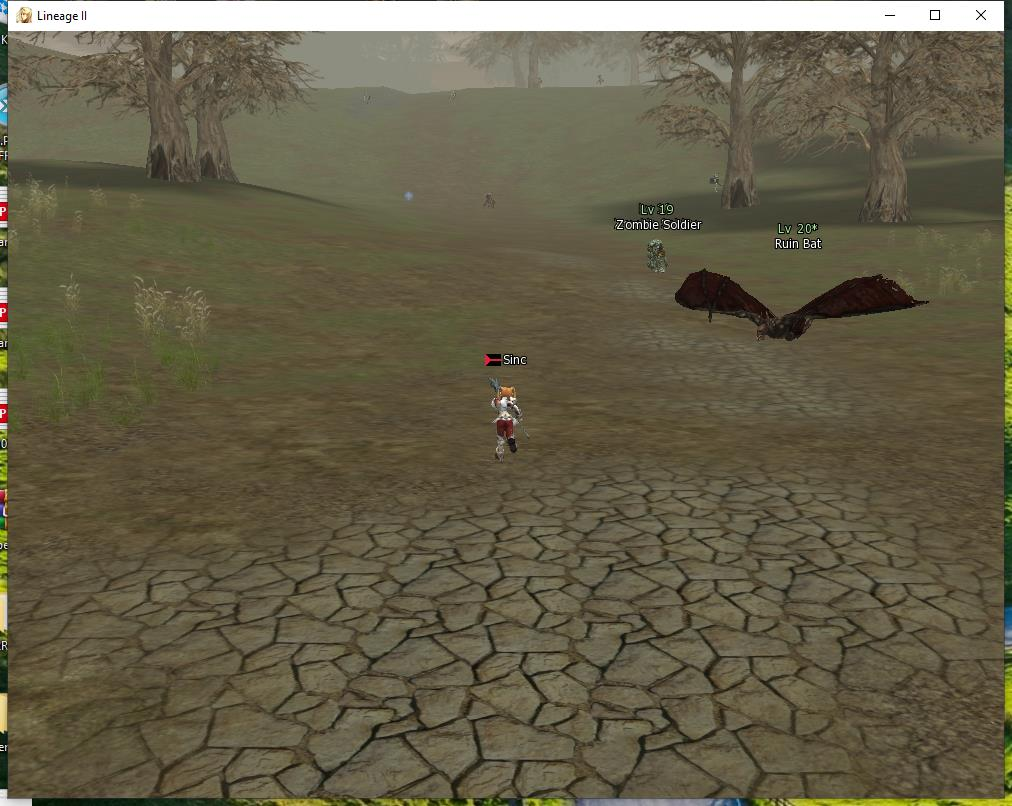monster: (712, 234, 881, 343), (624, 195, 687, 279), (479, 193, 501, 210)
